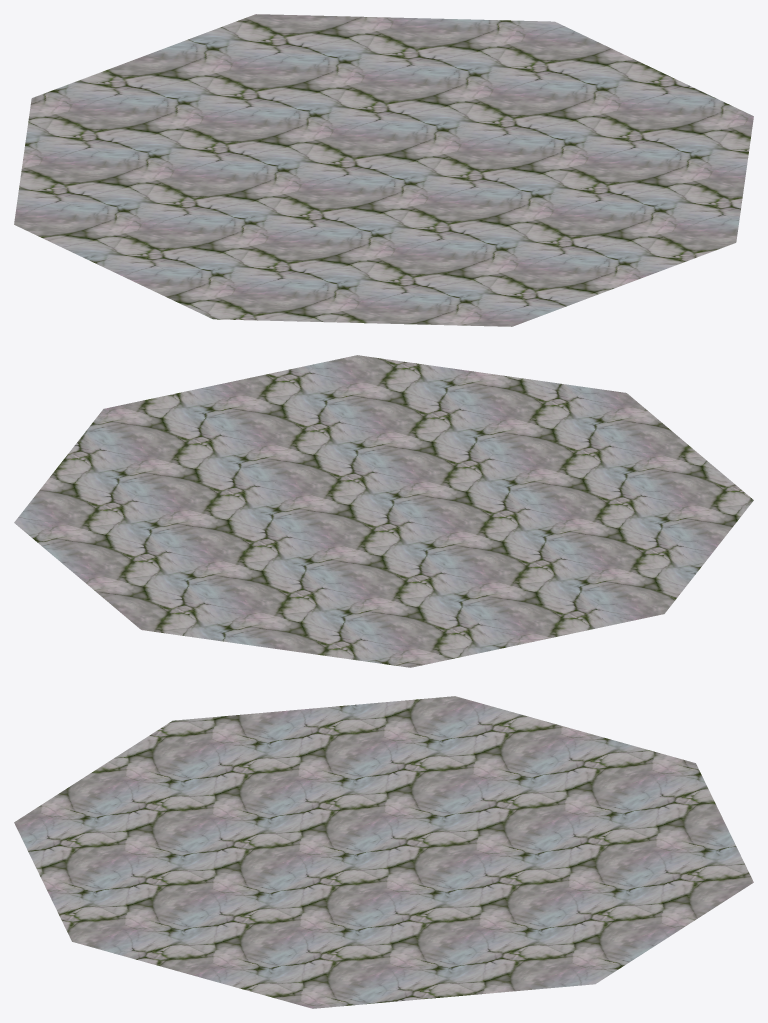
Rendered from TheOctagon_Floor_2_Floor.gltf.
3 views of the same model, one above another, from view 1: azimuth 30°, elevation 25°; view 2: azimuth 150°, elevation 25°; view 3: azimuth 270°, elevation 25° (orthographic). The views are drawn at different scales.
Visible parts, largest first — view 1: TheOctagon_Floor_2_Floor; view 2: TheOctagon_Floor_2_Floor; view 3: TheOctagon_Floor_2_Floor.
Part boxes in pixels (x1=…): TheOctagon_Floor_2_Floor: x1=14, y1=14, x2=753, y2=326; TheOctagon_Floor_2_Floor: x1=14, y1=355, x2=753, y2=667; TheOctagon_Floor_2_Floor: x1=14, y1=696, x2=753, y2=1008.
Size of the model in its own units: 81.15 by 0 by 81.15.
Materials: 1 (1 with a texture image).
